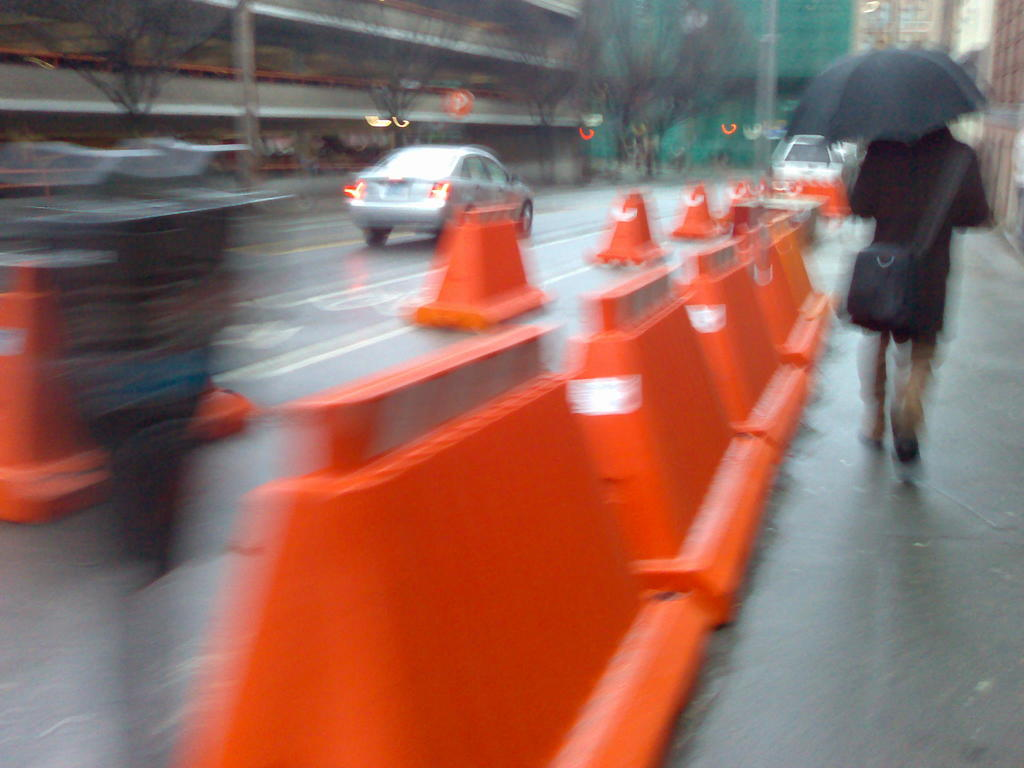cars: (326, 140, 537, 231), (776, 127, 845, 175)
